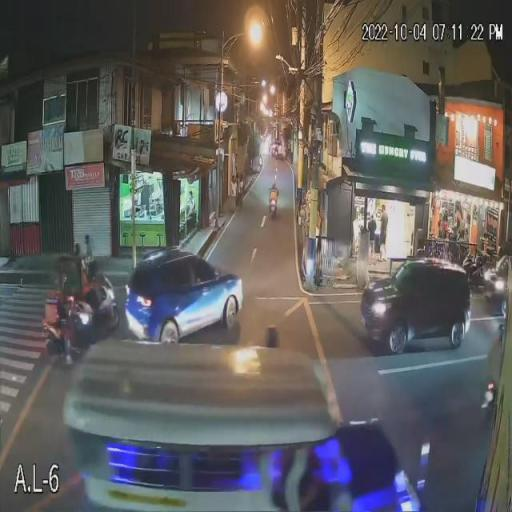helmet: (83, 255, 96, 274), (60, 271, 74, 287)
motorcycle: (46, 298, 97, 360), (82, 280, 112, 334), (480, 378, 502, 408), (269, 198, 281, 216)
rider: (57, 266, 77, 329), (486, 321, 504, 383), (82, 252, 98, 304), (268, 182, 280, 200)
